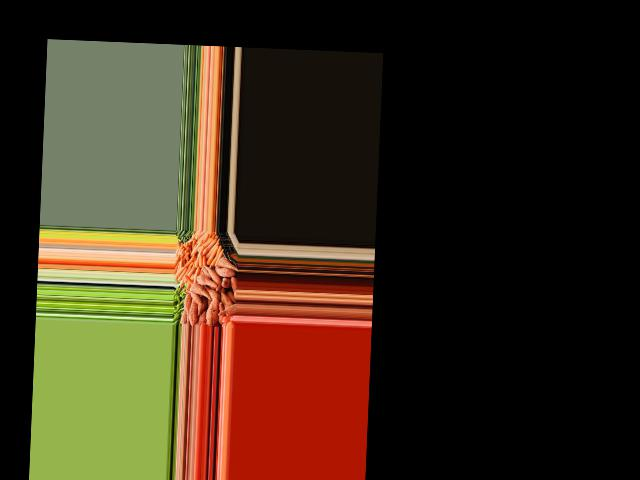carrot: (207, 244, 218, 266)
